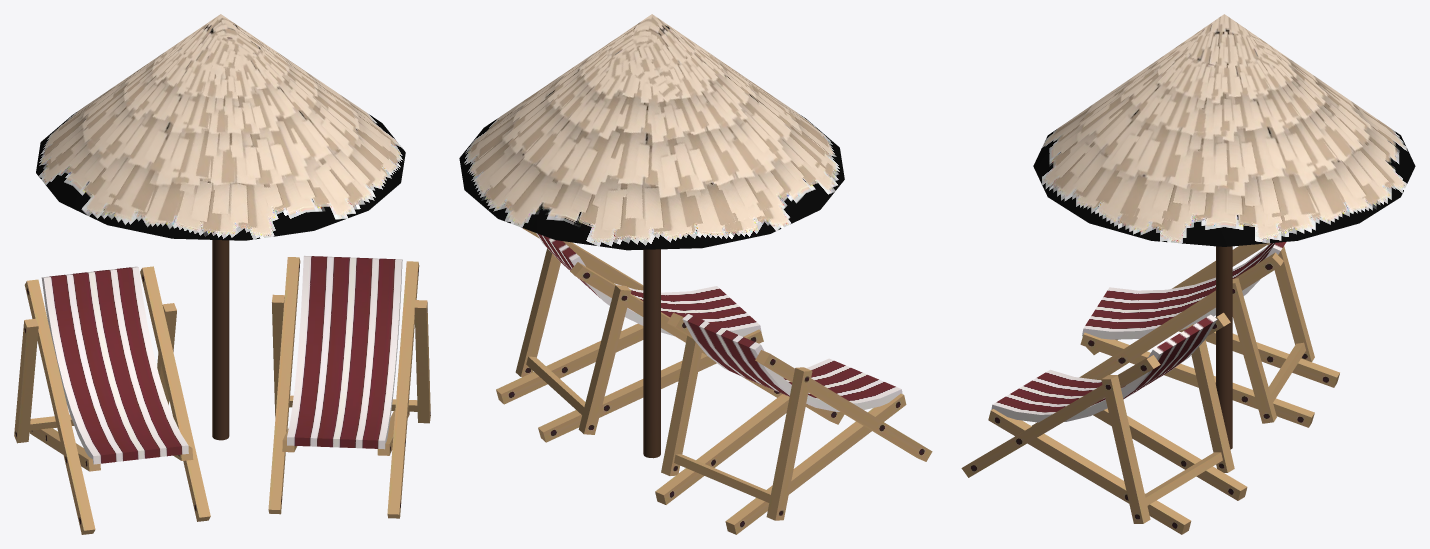
File: beach-chairs.glb
3 renders of one model, left to right at view 1: azimuth 30°, elevation 25°; view 2: azimuth 150°, elevation 25°; view 3: azimuth 270°, elevation 25°, orthographic. The views are drawn at different scales.
Parts seen in each view (by area): view 1: Beach_Chair1, Beach_Umbrella; view 2: Beach_Umbrella, Beach_Chair1; view 3: Beach_Umbrella, Beach_Chair1.
Part boxes in pixels (<box>): Beach_Chair1: <box>14,240,430,534</box>; Beach_Umbrella: <box>36,14,405,240</box>; Beach_Umbrella: <box>459,14,844,250</box>; Beach_Chair1: <box>496,228,932,534</box>; Beach_Umbrella: <box>1033,14,1415,246</box>; Beach_Chair1: <box>961,242,1339,534</box>.
Bounding box in the file's own units: 361 × 394 × 371.
Materials: 2 (2 with a texture image).
